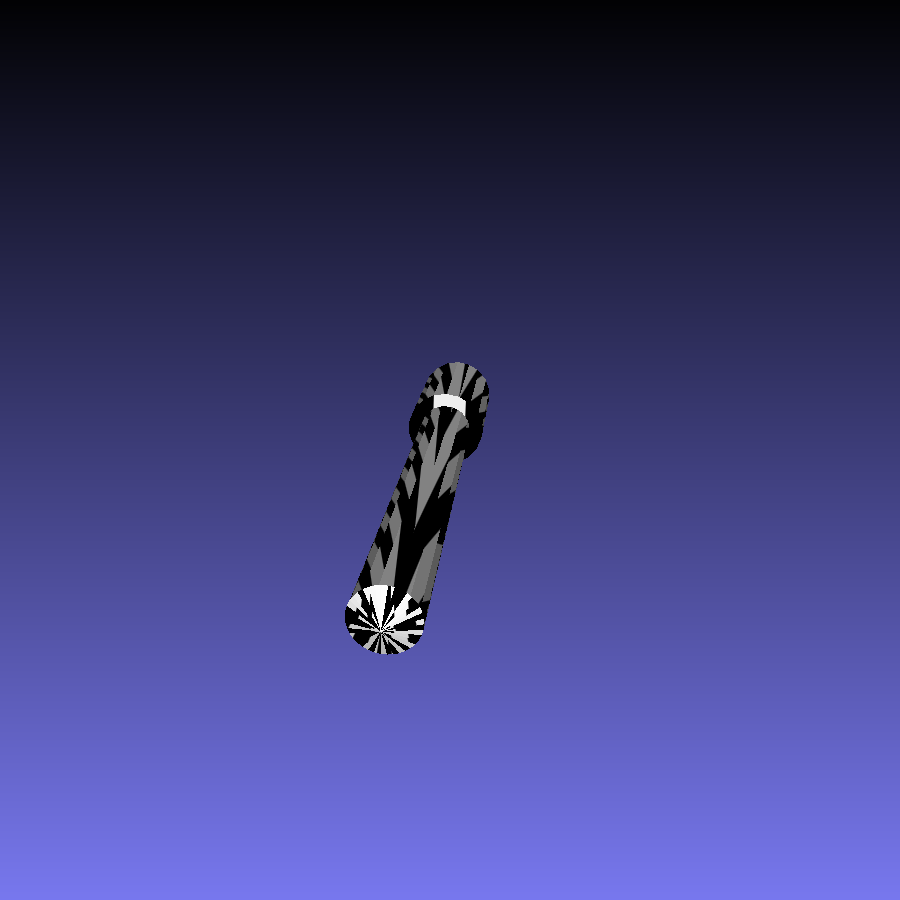cargo_g: (343, 362, 490, 656)
